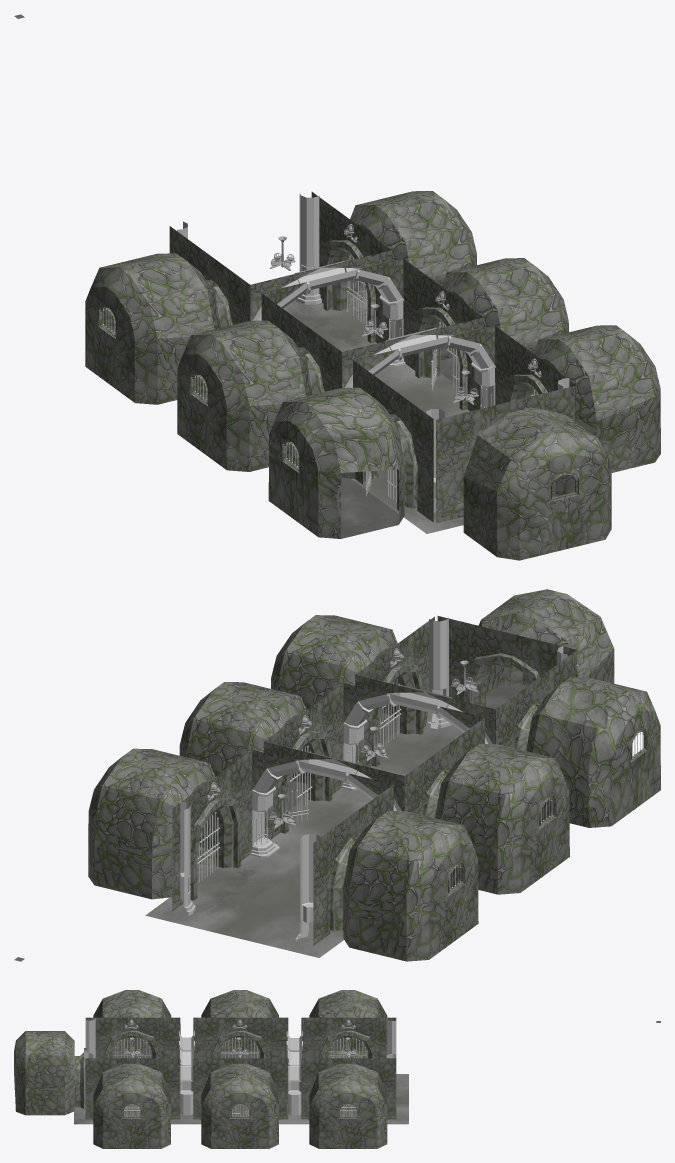
The model's file is Dungeon_acomodada.fbx.
The picture shows the model from 3 angles, top to bottom: view 1: azimuth 30°, elevation 25°; view 2: azimuth 150°, elevation 25°; view 3: azimuth 270°, elevation 25°; orthographic projection. The views are drawn at different scales.
Parts seen in each view (by area): view 1: casita, casita_hueca, casita3, casita4, casita1, casita5, casita2, piso, arco, arco1, caldera1; view 2: casita4, casita2, casita3, casita_hueca, piso, casita5, casita, casita1, arco, arco1, caldera2, caldera (+4 smaller); view 3: casita2, casita1, casita5, casita, casita3, casita_hueca, casita4, piso, arco, arco1, caldera, caldera3 (+3 smaller).
Part boxes in pixels (x1=…): casita: x1=436, y1=386, x2=611, y2=560; casita_hueca: x1=268, y1=349, x2=433, y2=538; casita3: x1=177, y1=282, x2=411, y2=471; casita4: x1=85, y1=226, x2=320, y2=404; casita1: x1=451, y1=325, x2=660, y2=472; casita5: x1=358, y1=258, x2=568, y2=411; casita2: x1=311, y1=191, x2=476, y2=343; piso: x1=283, y1=300, x2=469, y2=533; arco: x1=252, y1=260, x2=405, y2=366; arco1: x1=344, y1=327, x2=495, y2=408; caldera1: x1=295, y1=193, x2=321, y2=304; casita4: x1=313, y1=773, x2=478, y2=961; casita2: x1=88, y1=748, x2=296, y2=911; casita3: x1=335, y1=706, x2=569, y2=894; casita_hueca: x1=426, y1=651, x2=660, y2=827; piso: x1=145, y1=725, x2=462, y2=957; casita5: x1=179, y1=682, x2=387, y2=839; casita: x1=437, y1=589, x2=614, y2=709; casita1: x1=271, y1=615, x2=434, y2=767; arco: x1=250, y1=752, x2=401, y2=857; arco1: x1=341, y1=685, x2=492, y2=790; caldera2: x1=426, y1=617, x2=451, y2=729; caldera: x1=295, y1=834, x2=320, y2=941; casita2: x1=301, y1=1058, x2=396, y2=1148; casita1: x1=85, y1=1058, x2=180, y2=1148; casita5: x1=193, y1=1058, x2=288, y2=1148; casita: x1=14, y1=1031, x2=87, y2=1115; casita3: x1=193, y1=990, x2=288, y2=1058; casita_hueca: x1=85, y1=990, x2=180, y2=1058; casita4: x1=301, y1=990, x2=396, y2=1058; piso: x1=74, y1=1074, x2=408, y2=1124; arco: x1=286, y1=1031, x2=302, y2=1115; arco1: x1=179, y1=1030, x2=194, y2=1115; caldera: x1=386, y1=1017, x2=396, y2=1055; caldera3: x1=85, y1=1017, x2=95, y2=1058.
Size of the model in its own units: 49.64 by 18.15 by 136.
